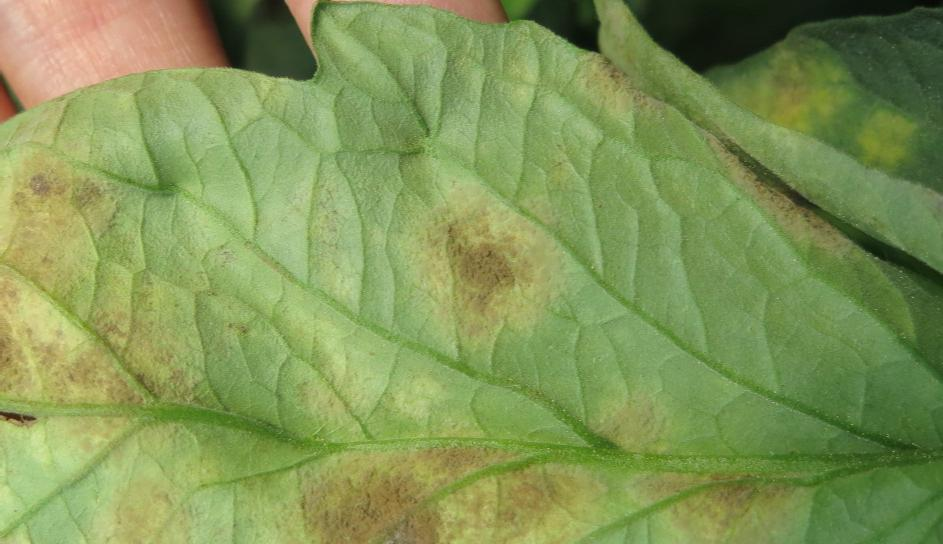Tomato mold leaf: (0, 8, 943, 544)
